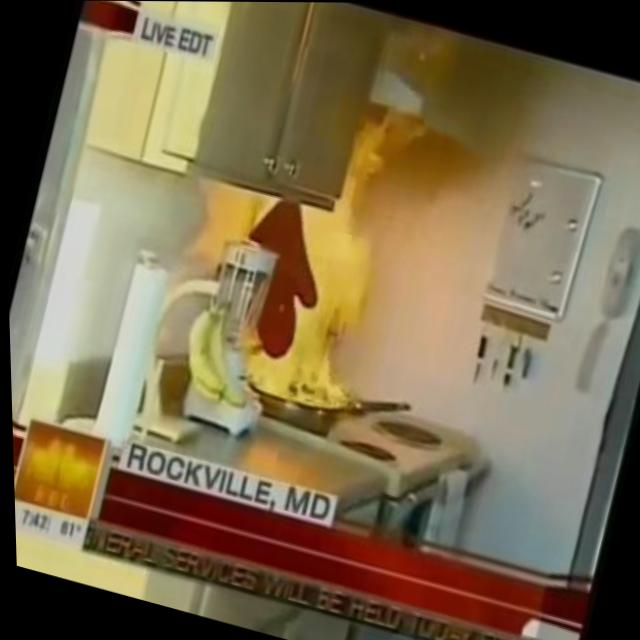fire: (223, 145, 406, 425)
